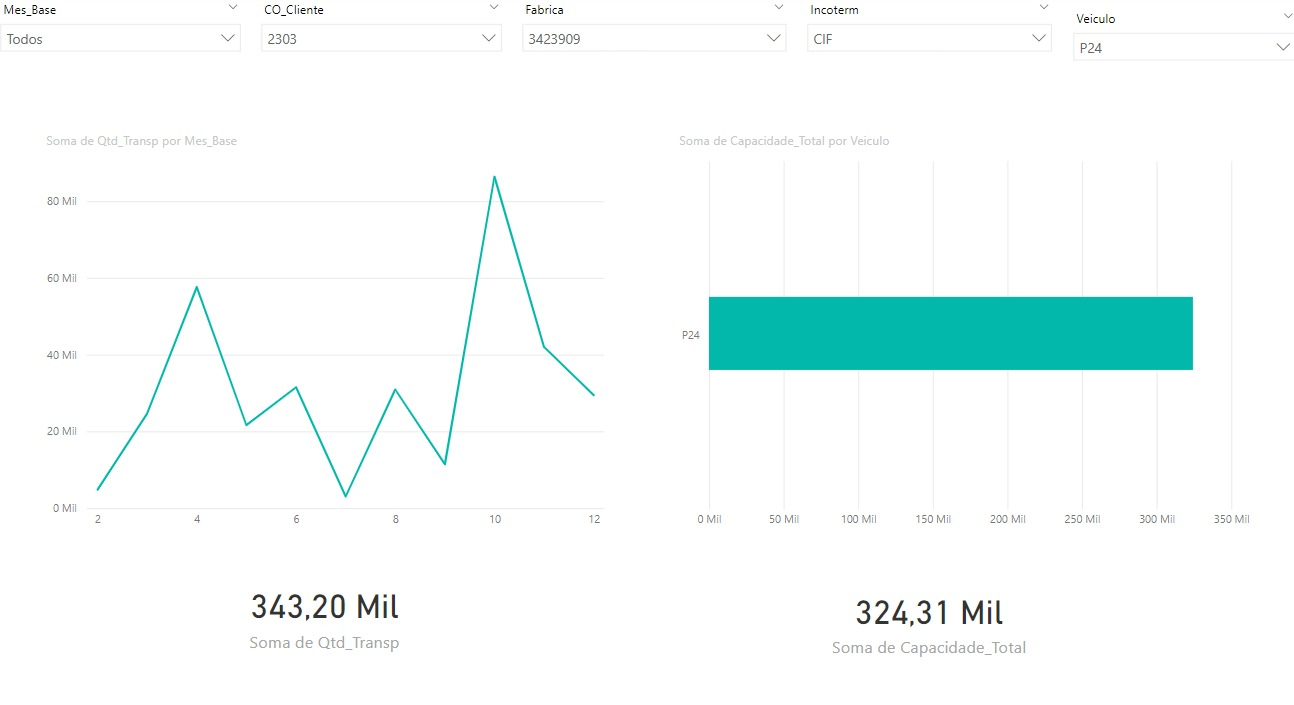

What the dashboard file says about the page in this screenshot:
{"tool":"powerbi","page":{"name":"Página 3","canvas":[1280,720],"ordinal":2},"visuals":[{"type":"slicer","fields":{"Values":["api custototalcif.Mes_Base"]},"box":[0,0,253.9,70],"z":0},{"type":"slicer","fields":{"Values":["api view_rota.CO_Cliente"]},"box":[253.9,0,253.9,72],"z":1},{"type":"slicer","fields":{"Values":["api view_fabrica.Fabrica"]},"box":[507.7,0,277.2,65.2],"z":2},{"type":"slicer","fields":{"Values":["api view_rota.Incoterm"]},"box":[785.4,0,257.8,64.9],"z":3},{"type":"slicer","fields":{"Values":["api ocupacaomensalveiculos.Veiculo"]},"box":[1043.2,9,236.8,63.2],"z":4},{"type":"lineChart","fields":{"Y":["Sum(api view_rota.Qtd_Transp)"],"Category":["api custototalcif.Mes_Base"]},"box":[49.6,133.1,552.6,394.7],"z":6},{"type":"card","fields":{"Values":["Sum(api view_rota.Qtd_Transp)"]},"box":[195.8,532.6,259.8,138.9],"z":7},{"type":"card","fields":{"Values":["Sum(api ocupacaomensalveiculos.Capacidade_Total)"]},"box":[747.4,532.6,332.7,149.9],"z":8},{"type":"barChart","fields":{"Category":["api ocupacaomensalveiculos.Veiculo"],"Y":["Sum(api ocupacaomensalveiculos.Capacidade_Total)"]},"box":[665.4,133.1,565,394.7],"z":9}]}

Visuals, with their boxes on the page's 1280x720 design canvas (x1, y1, x2, y2). These are canvas units, not pixel positions in the 1294x705 screenshot, which may show the page scaled, cropped or inside an application window:
slicer - api custototalcif.Mes_Base: 0:0:254:70
slicer - api view_rota.CO_Cliente: 254:0:508:72
slicer - api view_fabrica.Fabrica: 508:0:785:65
slicer - api view_rota.Incoterm: 785:0:1043:65
slicer - api ocupacaomensalveiculos.Veiculo: 1043:9:1280:72
lineChart - Sum(api view_rota.Qtd_Transp) x api custototalcif.Mes_Base: 50:133:602:528
card - Sum(api view_rota.Qtd_Transp): 196:533:456:672
card - Sum(api ocupacaomensalveiculos.Capacidade_Total): 747:533:1080:682
barChart - api ocupacaomensalveiculos.Veiculo x Sum(api ocupacaomensalveiculos.Capacidade_Total): 665:133:1230:528
